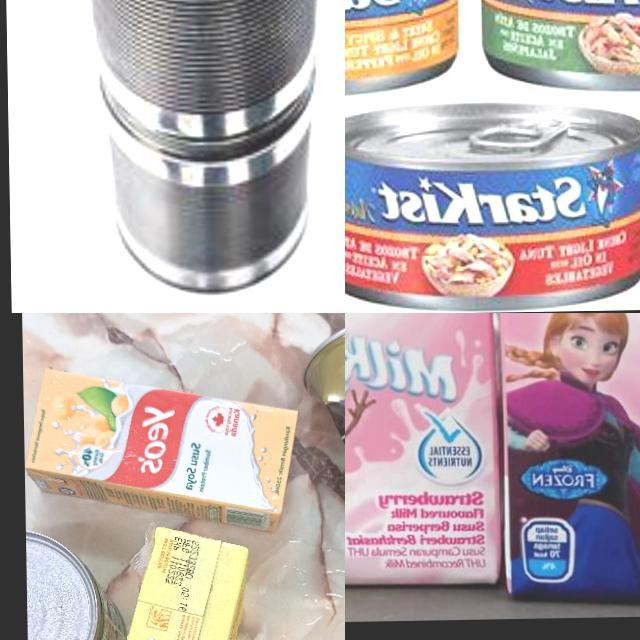aba de lata: (467, 114, 570, 150)
caixinha: (23, 366, 299, 536), (345, 313, 500, 589), (504, 313, 640, 600), (120, 523, 255, 640)
lata: (66, 0, 337, 295), (345, 97, 640, 313), (474, 0, 640, 92), (303, 313, 345, 583), (26, 528, 124, 640)
